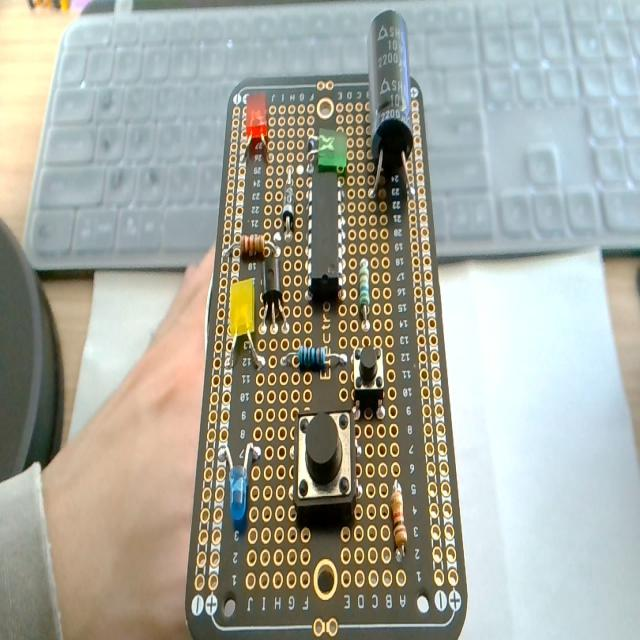Electrolytic capacitor: (361, 12, 427, 204)
IC: (303, 172, 351, 303)
diode: (281, 158, 303, 252)
led: (210, 435, 266, 521), (225, 273, 262, 363), (300, 120, 350, 172), (242, 91, 276, 161)
resistor: (276, 339, 349, 374), (388, 456, 410, 552), (353, 244, 375, 334), (223, 232, 283, 263)
switch: (290, 396, 356, 521), (354, 337, 390, 397)
transistor: (260, 261, 294, 331)
